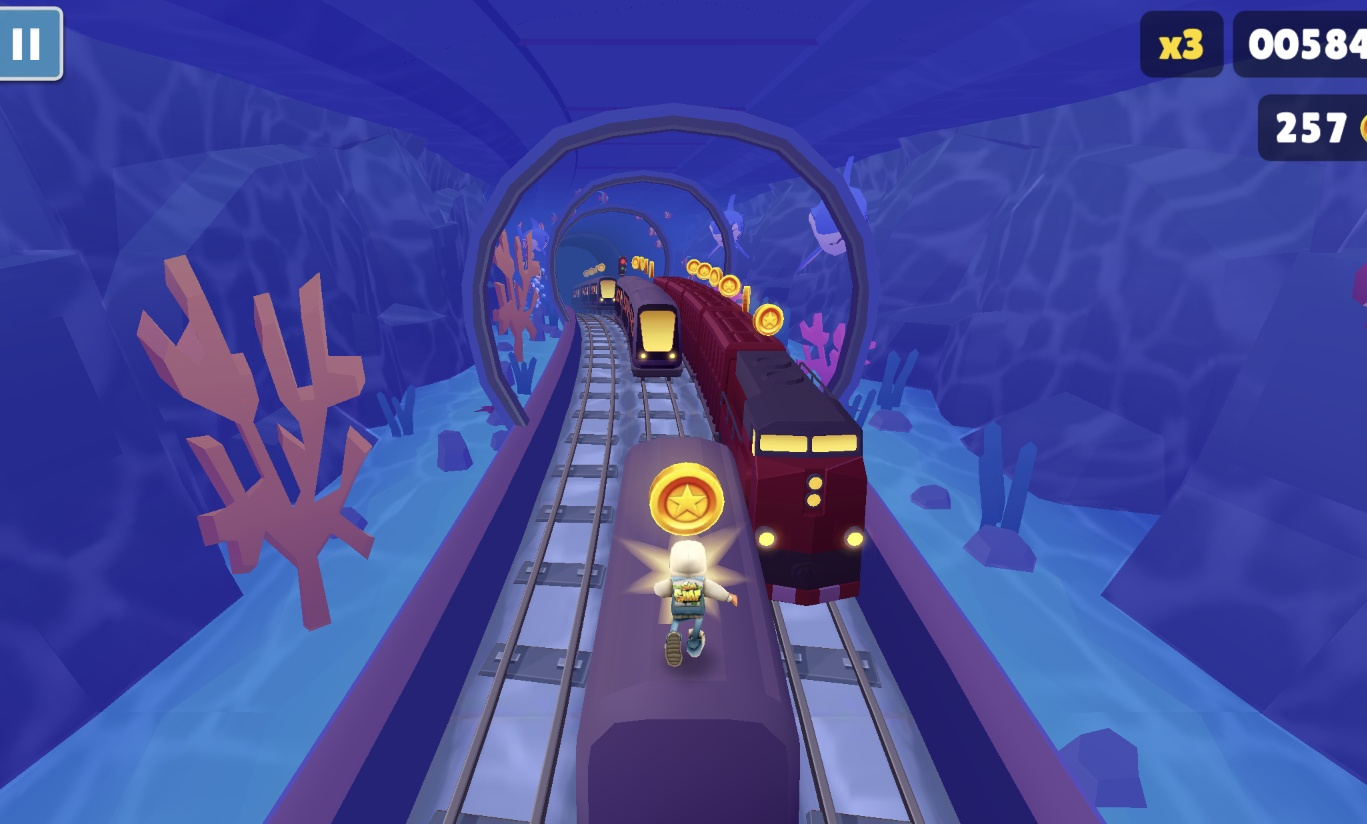train: (555, 438, 818, 824), (650, 279, 870, 605), (614, 278, 686, 379), (573, 276, 617, 305)
